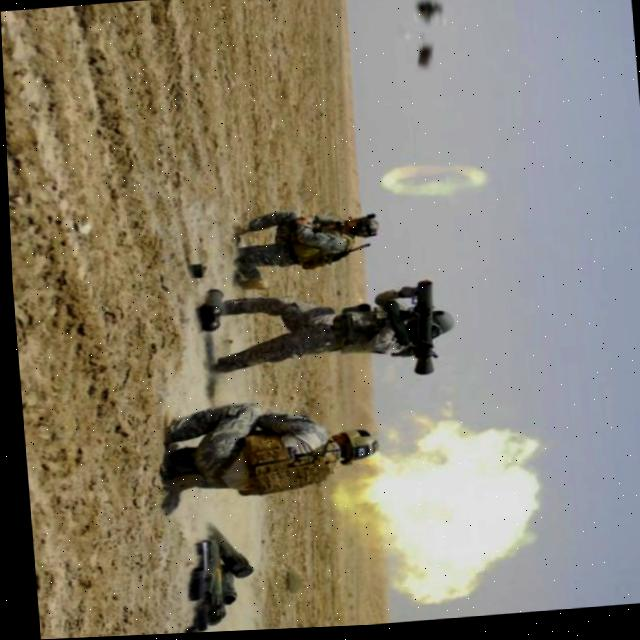rocket: (396, 278, 439, 382)
